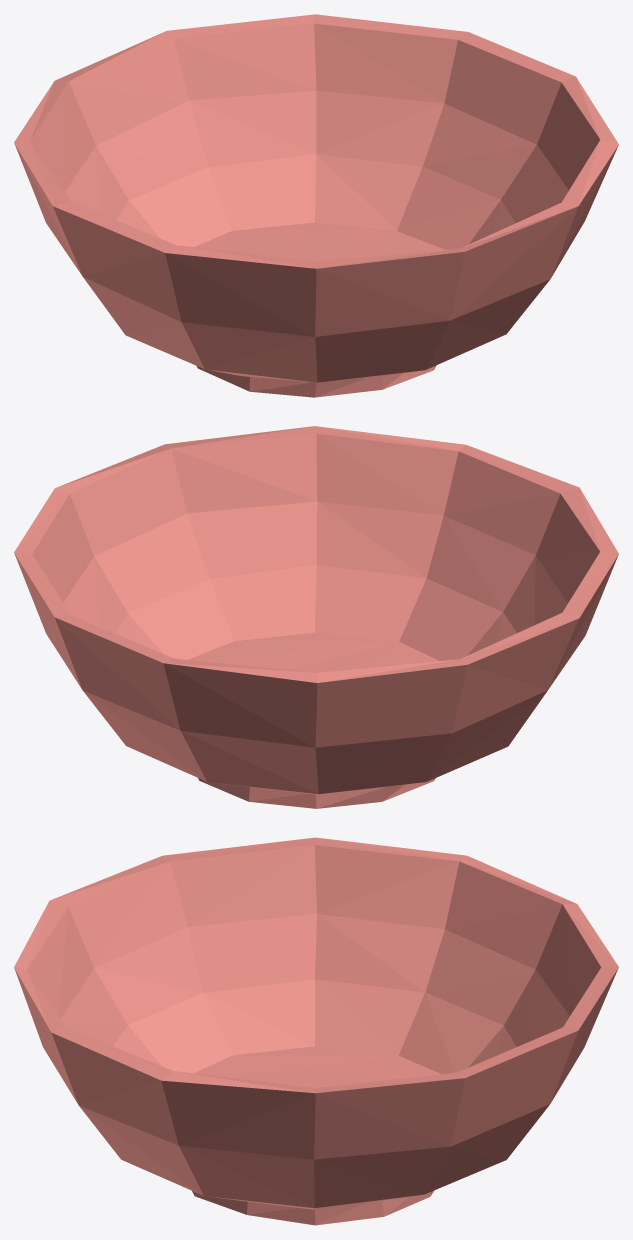
The model's file is SFI_Bowl_004.fbx.
3 views of the same model, one above another, from view 1: azimuth 30°, elevation 25°; view 2: azimuth 150°, elevation 25°; view 3: azimuth 270°, elevation 25° (orthographic).
Parts seen in each view (by area): view 1: SFI_Bowl_004; view 2: SFI_Bowl_004; view 3: SFI_Bowl_004.
Part boxes in pixels (bbox=[...]): SFI_Bowl_004: bbox=[14, 14, 618, 397]; SFI_Bowl_004: bbox=[14, 426, 618, 808]; SFI_Bowl_004: bbox=[14, 837, 618, 1225].
Size of the model in its own units: 14.31 by 5.29 by 14.21.
